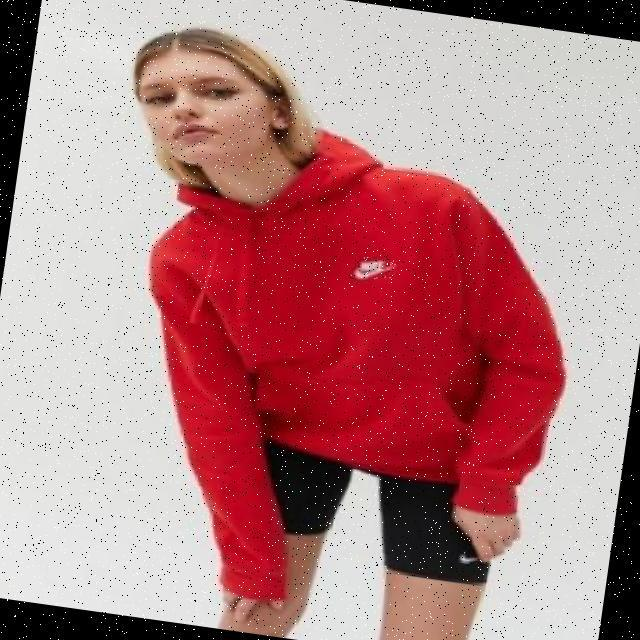Nike: (351, 255, 397, 283), (457, 552, 480, 563)
